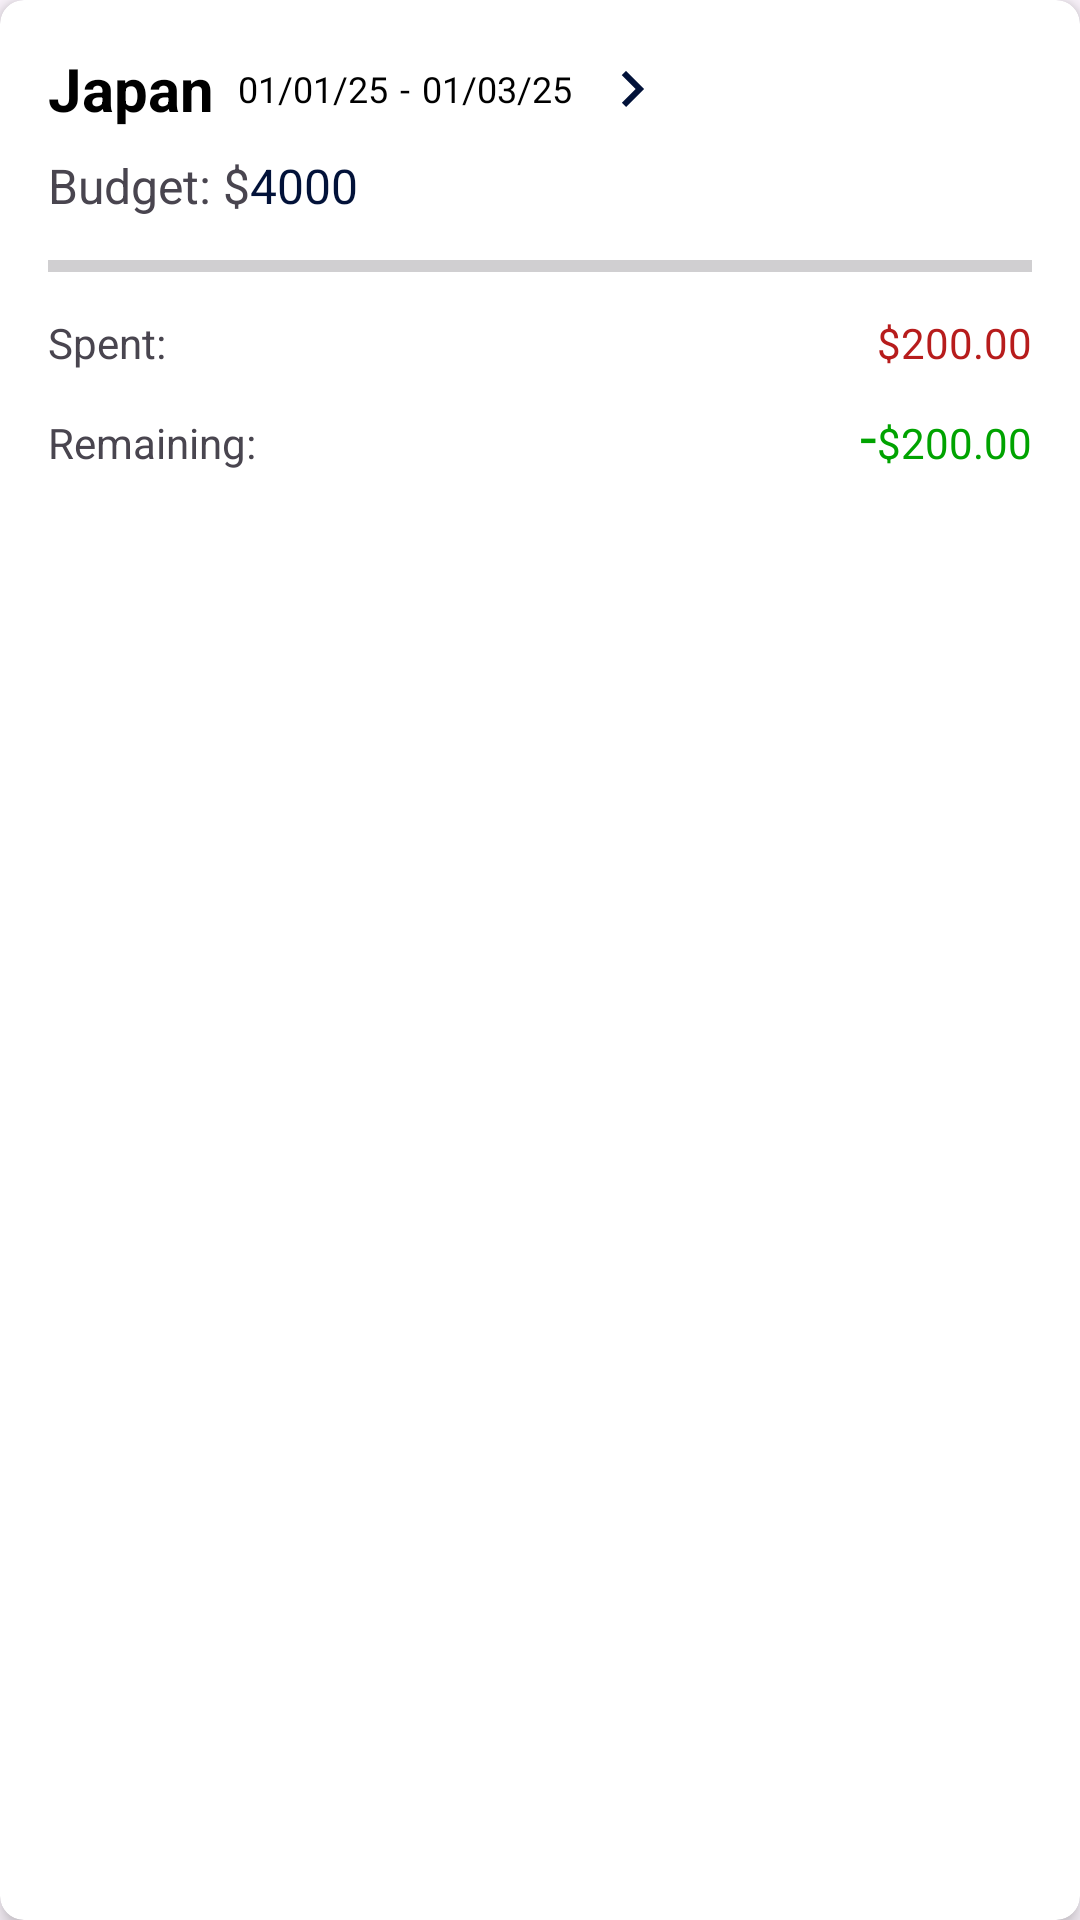

Icon bounding boxes for this 1080*1920 phone screenshot, format [x1=x1, y1=y1, x2=x2, y2=y2]:
arrow right: [x1=622, y1=71, x2=644, y2=107]
